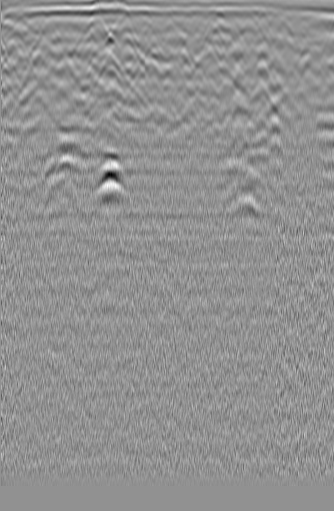가스: (89, 153, 129, 199)
상수: (3, 37, 29, 67)
오수: (294, 37, 325, 72)
우수: (154, 20, 188, 52)
